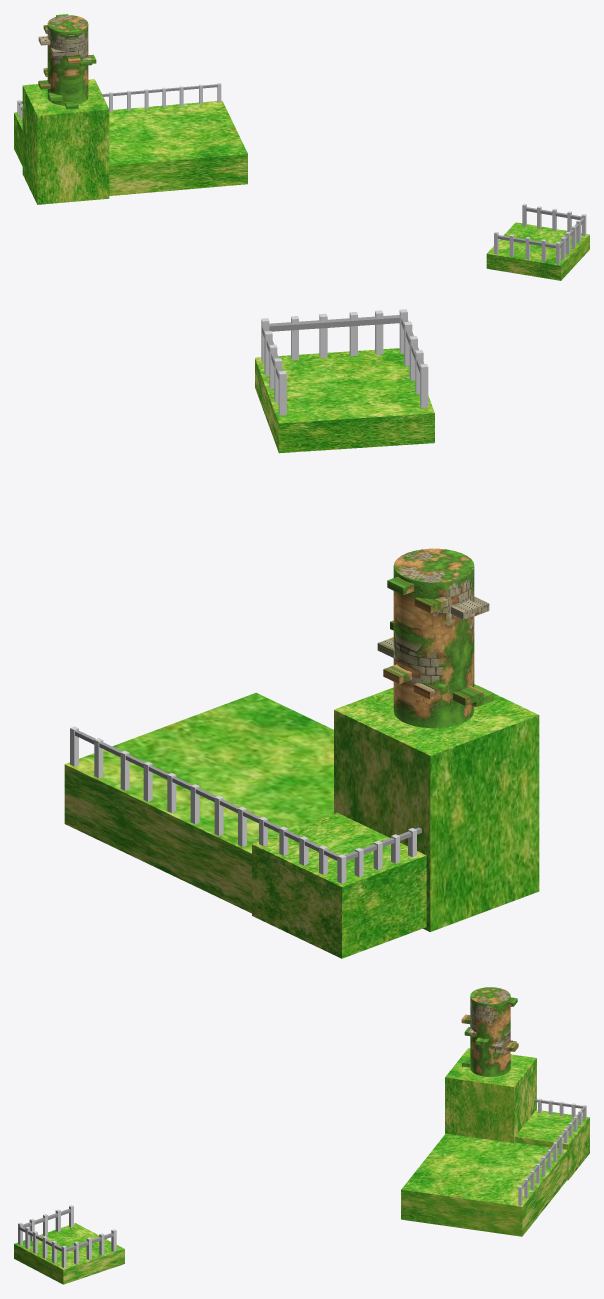
File: secondStageModel.fbx
The picture shows the model from 3 angles, top to bottom: view 1: azimuth 30°, elevation 25°; view 2: azimuth 150°, elevation 25°; view 3: azimuth 270°, elevation 25°; orthographic projection. The views are drawn at different scales.
Parts seen in each view (by area): view 1: pasted__pasted__pasted__pasted__pasted__pasted__pCube11; view 2: pasted__pasted__pasted__pasted__pasted__pasted__pCube11; view 3: pasted__pasted__pasted__pasted__pasted__pasted__pCube11.
Boxes of the visible parts, x1,y1,x2,y2 form: pasted__pasted__pasted__pasted__pasted__pasted__pCube11: (14, 14, 589, 280); pasted__pasted__pasted__pasted__pasted__pasted__pCube11: (64, 309, 539, 958); pasted__pasted__pasted__pasted__pasted__pasted__pCube11: (14, 987, 589, 1284).
Size of the model in its own units: 19.2 by 8.57 by 27.8.
